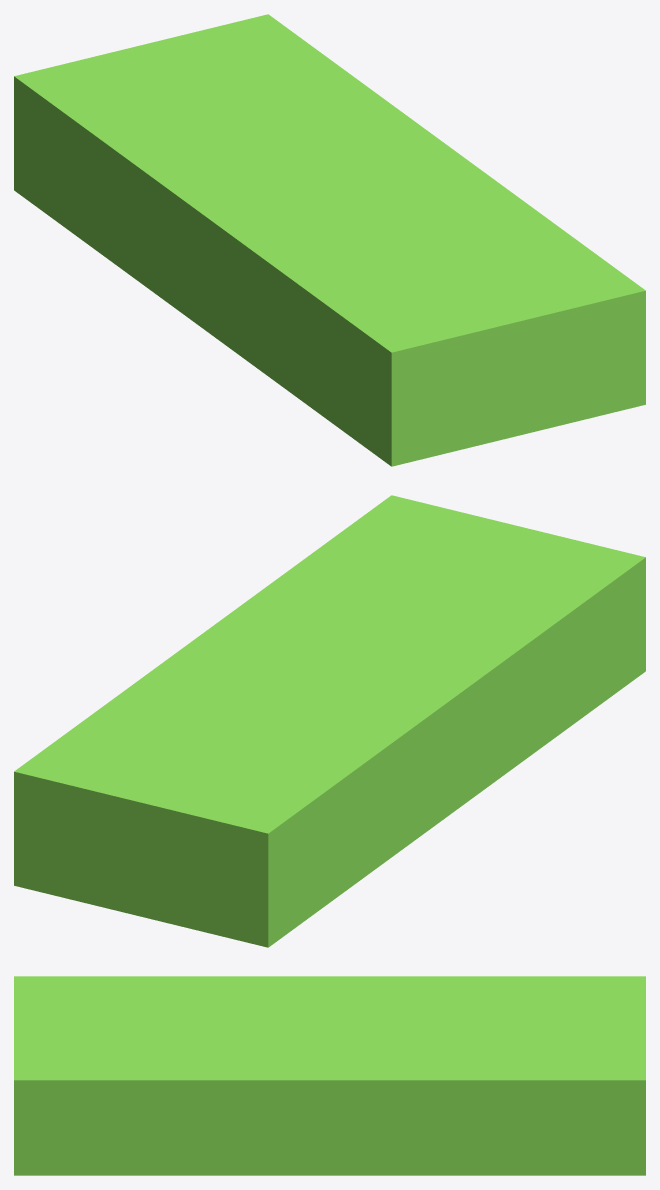
The model's file is corridor.gltf.
3 renders of one model, top to bottom at view 1: azimuth 30°, elevation 25°; view 2: azimuth 150°, elevation 25°; view 3: azimuth 270°, elevation 25°, orthographic. The views are drawn at different scales.
Parts seen in each view (by area): view 1: corridor; view 2: corridor; view 3: corridor.
Part boxes in pixels (x1,y1,x2,y2): corridor: (14,14,645,466); corridor: (14,495,645,947); corridor: (14,976,645,1175).
Size of the model in its own units: 7 by 3 by 18.
